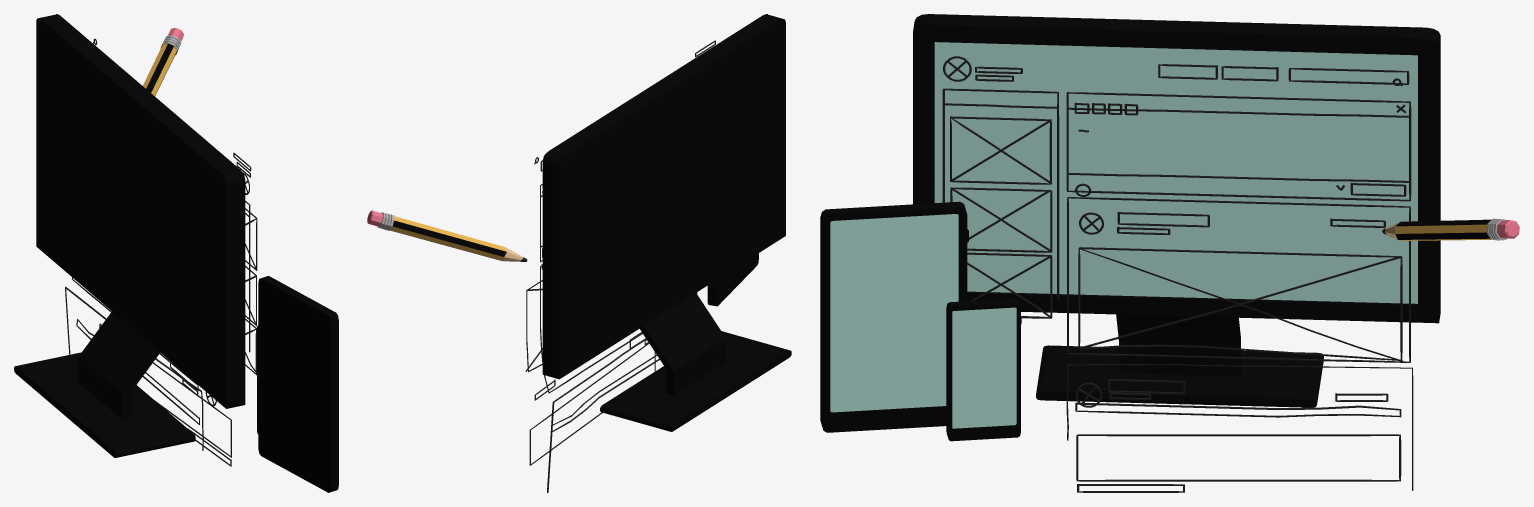
Rendered from home.glb.
3 renders of one model, left to right at view 1: azimuth 30°, elevation 25°; view 2: azimuth 150°, elevation 25°; view 3: azimuth 270°, elevation 25°, orthographic. The views are drawn at different scales.
Visible parts, largest first — view 1: Computer, Phone.001, Primitives, Pencil; view 2: Computer, Primitives, Pencil, Phone.001; view 3: Computer, Phone.001, Primitives, Phone, Pencil.
Boxes of the visible parts, bbox=[...] form: Computer: bbox=[14, 14, 245, 457]; Phone.001: bbox=[258, 276, 338, 492]; Primitives: bbox=[65, 38, 259, 466]; Pencil: bbox=[143, 28, 184, 95]; Computer: bbox=[542, 14, 791, 431]; Primitives: bbox=[525, 40, 715, 492]; Pencil: bbox=[367, 210, 527, 261]; Phone.001: bbox=[707, 253, 758, 306]; Computer: bbox=[913, 14, 1440, 407]; Phone.001: bbox=[820, 201, 968, 432]; Primitives: bbox=[942, 56, 1413, 492]; Phone: bbox=[946, 298, 1021, 441]; Pencil: bbox=[1382, 218, 1519, 240].
Bounding box in the file's own units: 6.49 × 8.82 × 12.47.
